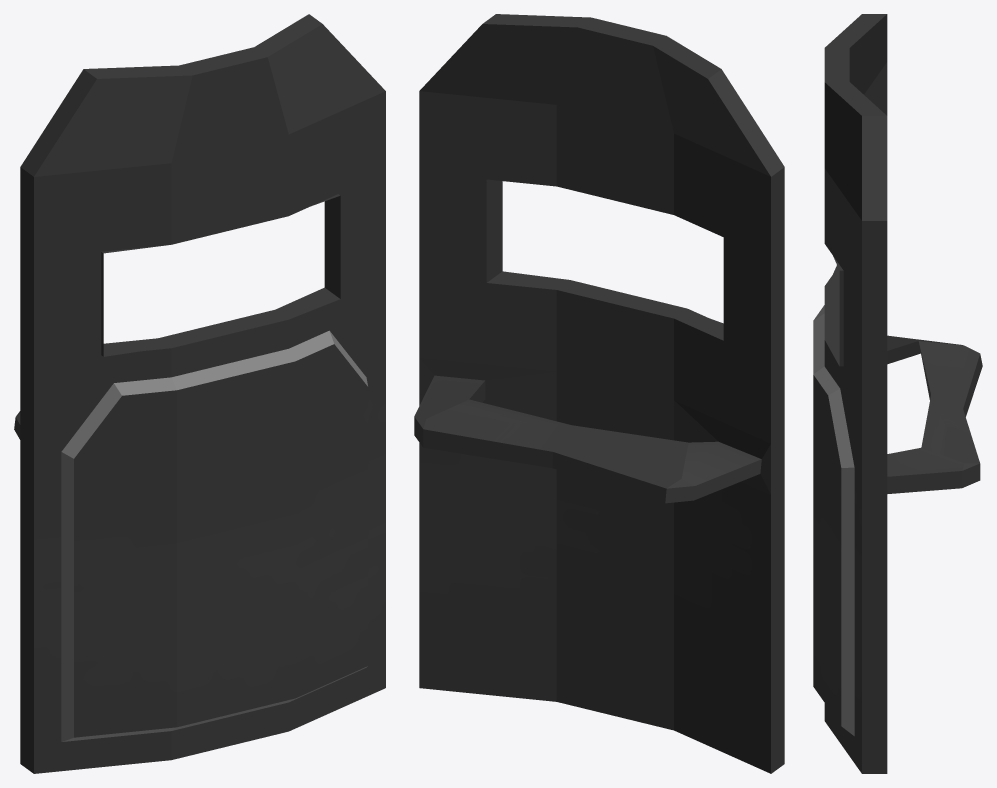
The model's file is Military_Shiel_Mesh.fbx.
3 renders of one model, left to right at view 1: azimuth 30°, elevation 25°; view 2: azimuth 150°, elevation 25°; view 3: azimuth 270°, elevation 25°, orthographic. The views are drawn at different scales.
Visible parts, largest first — view 1: Military_Shield; view 2: Military_Shield; view 3: Military_Shield.
Part boxes in pixels (x1,y1,x2,y2): Military_Shield: (14,14,385,773); Military_Shield: (414,14,784,773); Military_Shield: (813,14,982,773).
Bounding box in the file's own units: 137 × 252 × 61.49.
Materials: 1 (1 with a texture image).
